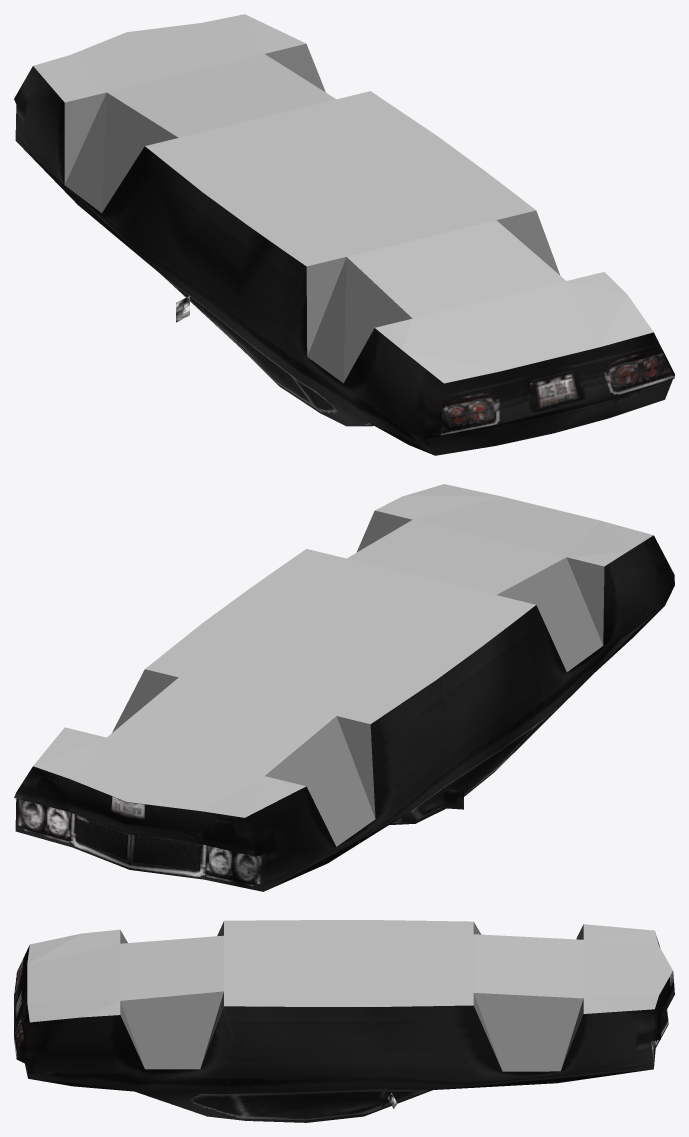
Rendered from CHICAGO_model12_damaged.obj.
The picture shows the model from 3 angles, top to bottom: view 1: azimuth 30°, elevation 25°; view 2: azimuth 150°, elevation 25°; view 3: azimuth 270°, elevation 25°; orthographic projection. The views are drawn at different scales.
Visible parts, largest first — view 1: CHICAGO_model12_clean_set1_id0_ft, CHICAGO_model12_clean_flat, CHICAGO_model12_clean_set55_id0, CHICAGO_model12_clean_set55_id1, CHICAGO_model12_clean_set55_id4, CHICAGO_model12_clean_set55_id12, CHICAGO_model12_clean_set55_id11, CHICAGO_model12_clean_set56_id2; view 2: CHICAGO_model12_clean_set1_id0_ft, CHICAGO_model12_clean_flat, CHICAGO_model12_clean_set55_id0, CHICAGO_model12_clean_set55_id1, CHICAGO_model12_clean_set55_id7, CHICAGO_model12_clean_set55_id4, CHICAGO_model12_clean_set55_id8, CHICAGO_model12_clean_set56_id2; view 3: CHICAGO_model12_clean_set1_id0_ft, CHICAGO_model12_clean_set55_id0, CHICAGO_model12_clean_flat, CHICAGO_model12_clean_set55_id1, CHICAGO_model12_clean_set55_id4, CHICAGO_model12_clean_set56_id2, CHICAGO_model12_clean_set55_id8, CHICAGO_model12_clean_set55_id11, CHICAGO_model12_clean_set55_id12.
Part boxes in pixels (box(x1,y1,x2,y2)): CHICAGO_model12_clean_set1_id0_ft: box(33, 14, 653, 383); CHICAGO_model12_clean_flat: box(64, 43, 560, 383); CHICAGO_model12_clean_set55_id0: box(14, 66, 202, 300); CHICAGO_model12_clean_set55_id1: box(177, 192, 306, 380); CHICAGO_model12_clean_set55_id4: box(278, 267, 674, 455); CHICAGO_model12_clean_set55_id12: box(425, 359, 559, 455); CHICAGO_model12_clean_set55_id11: box(550, 332, 674, 433); CHICAGO_model12_clean_set56_id2: box(161, 274, 366, 426); CHICAGO_model12_clean_set1_id0_ft: box(33, 484, 653, 817); CHICAGO_model12_clean_flat: box(112, 510, 604, 846); CHICAGO_model12_clean_set55_id0: box(14, 680, 450, 891); CHICAGO_model12_clean_set55_id1: box(436, 605, 547, 782); CHICAGO_model12_clean_set55_id7: box(125, 788, 463, 891); CHICAGO_model12_clean_set55_id4: box(536, 535, 674, 715); CHICAGO_model12_clean_set55_id8: box(14, 766, 131, 869); CHICAGO_model12_clean_set56_id2: box(408, 676, 590, 823); CHICAGO_model12_clean_set1_id0_ft: box(27, 920, 672, 1022); CHICAGO_model12_clean_set55_id0: box(374, 1005, 660, 1089); CHICAGO_model12_clean_flat: box(120, 921, 583, 1071); CHICAGO_model12_clean_set55_id1: box(221, 1006, 397, 1108); CHICAGO_model12_clean_set55_id4: box(16, 1007, 241, 1093); CHICAGO_model12_clean_set56_id2: box(135, 1089, 432, 1122); CHICAGO_model12_clean_set55_id8: box(651, 971, 674, 1068); CHICAGO_model12_clean_set55_id11: box(14, 984, 29, 1077); CHICAGO_model12_clean_set55_id12: box(14, 945, 29, 1016).
Bounding box in the file's own units: 289 × 164 × 752.
15 materials, 13 textured.
